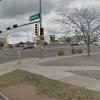Traffic light: (5, 14, 46, 42)
